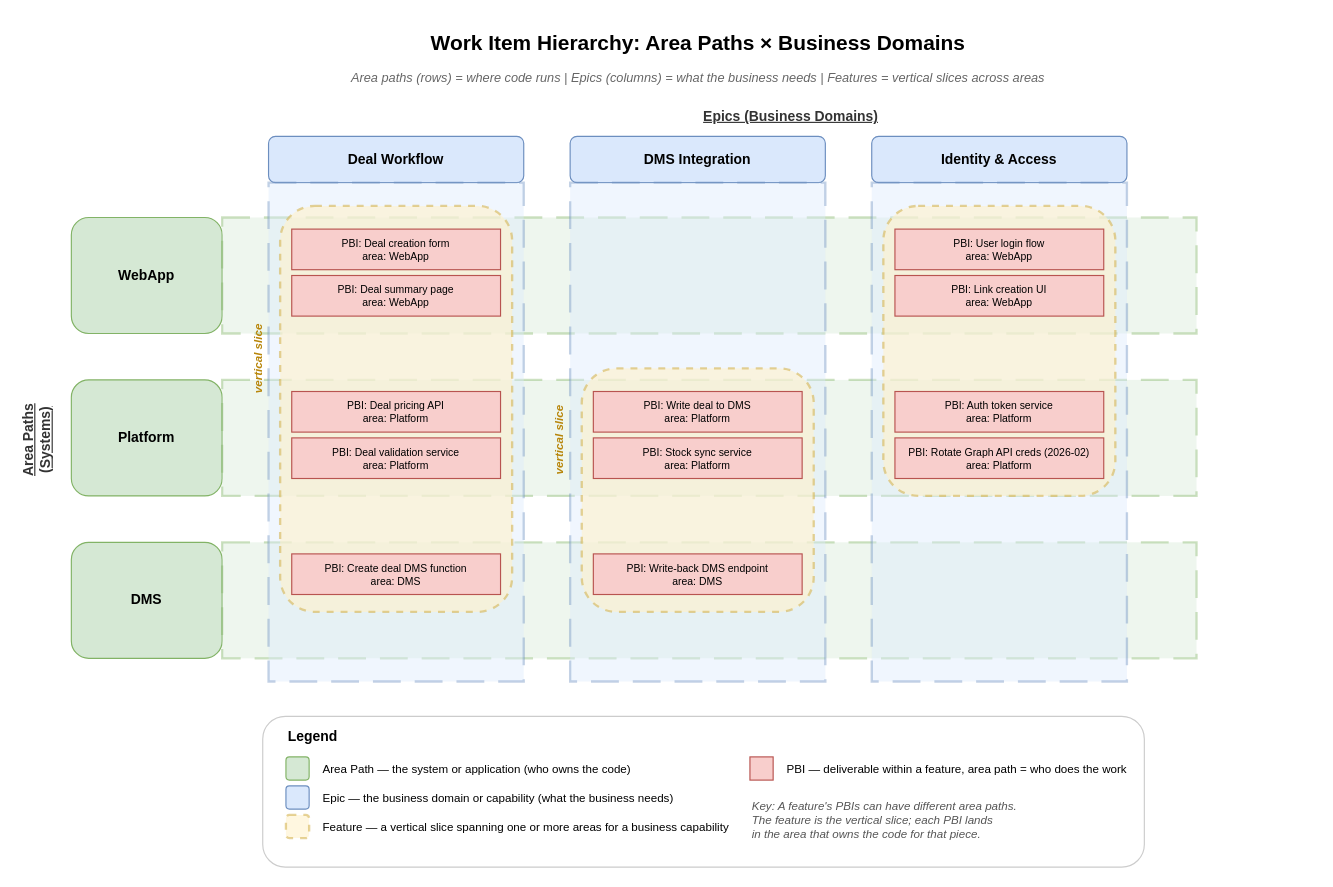
This 1333x887 diagram has some shape labels left out. Here are the shapes that lost their labels. From the top down, the box of each, then its label:
(882, 204, 1116, 496): Feature: User management
(278, 204, 513, 612): Feature: Deal Creation
(580, 367, 814, 612): Feature: Deal write-back
